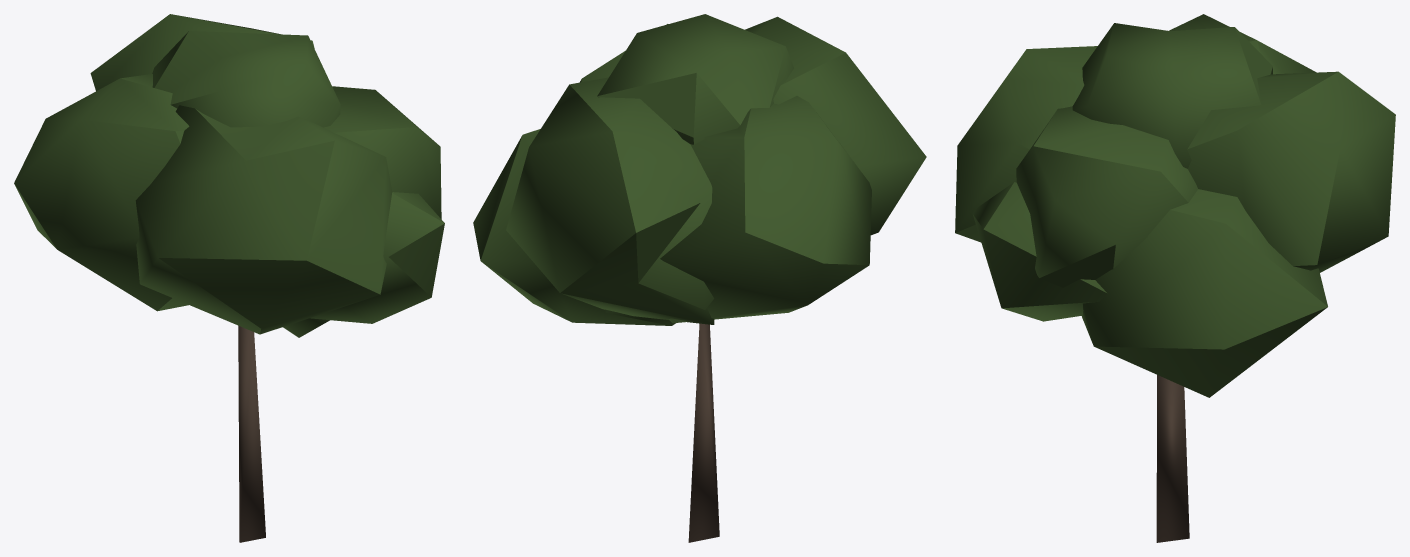
File: broadleaf_LOD1.glb
The picture shows the model from 3 angles, left to right: view 1: azimuth 30°, elevation 25°; view 2: azimuth 150°, elevation 25°; view 3: azimuth 270°, elevation 25°; orthographic projection.
Visible parts, largest first — view 1: Body_LOD1; view 2: Body_LOD1; view 3: Body_LOD1.
Part boxes in pixels (x1,y1,x2,y2): Body_LOD1: [14, 14, 444, 542]; Body_LOD1: [473, 14, 926, 542]; Body_LOD1: [955, 14, 1395, 542].
Size of the model in its own units: 6.39 by 7.9 by 6.35.
